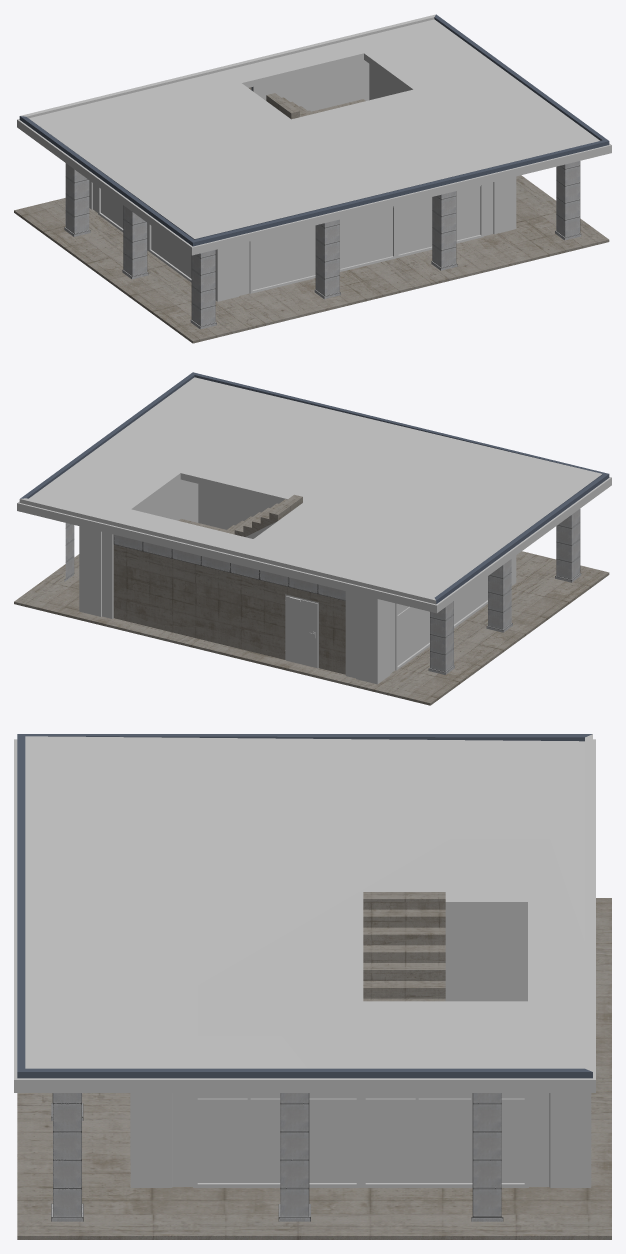
The model's file is Ruin2A_LOD0.fbx.
3 views of the same model, one above another, from view 1: azimuth 30°, elevation 25°; view 2: azimuth 150°, elevation 25°; view 3: azimuth 270°, elevation 25° (orthographic). The views are drawn at different scales.
Parts seen in each view (by area): view 1: polySurface359; view 2: polySurface359; view 3: polySurface359.
Part boxes in pixels (<box>): polySurface359: <box>14,14,611,343</box>; polySurface359: <box>14,372,611,705</box>; polySurface359: <box>14,734,611,1239</box>.
Size of the model in its own units: 14.4 by 3.58 by 10.68.
